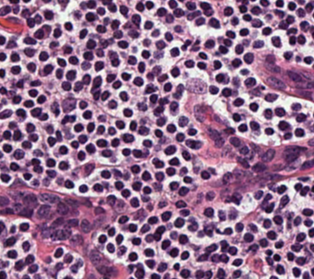nucleus: (188, 79, 205, 92), (267, 76, 284, 88), (62, 98, 75, 112), (262, 149, 274, 161), (252, 163, 266, 172), (238, 157, 249, 168), (208, 129, 220, 139), (186, 140, 201, 148), (92, 76, 101, 89), (84, 163, 93, 175), (51, 102, 59, 115), (178, 116, 188, 126), (152, 158, 163, 167), (267, 64, 279, 72), (244, 53, 253, 63), (66, 70, 75, 80), (154, 105, 163, 115), (122, 134, 133, 142), (164, 146, 175, 154), (265, 94, 277, 101), (34, 29, 43, 38), (86, 39, 95, 48), (39, 51, 48, 60), (232, 58, 241, 67), (230, 137, 239, 146), (14, 149, 23, 158), (272, 36, 280, 46), (24, 48, 34, 56), (44, 64, 52, 74), (245, 78, 255, 86), (74, 81, 82, 91), (145, 85, 155, 93), (233, 98, 243, 106), (1, 110, 11, 118), (13, 130, 21, 140), (132, 149, 142, 157), (24, 37, 35, 44), (53, 28, 61, 37), (79, 29, 87, 38), (156, 41, 165, 49), (170, 47, 178, 56), (83, 51, 92, 59), (95, 61, 103, 70), (27, 62, 35, 71), (171, 67, 179, 76), (133, 77, 142, 85), (209, 86, 218, 94), (222, 88, 231, 96), (101, 91, 109, 100), (119, 91, 127, 100), (31, 108, 40, 116), (123, 108, 132, 116), (275, 108, 284, 116), (250, 121, 258, 130), (26, 123, 34, 132), (139, 126, 148, 134), (215, 137, 223, 146), (59, 161, 68, 169), (101, 170, 110, 178), (142, 171, 150, 180), (132, 182, 141, 190), (277, 185, 286, 193), (179, 187, 188, 195), (253, 40, 263, 47), (83, 74, 90, 84), (235, 45, 243, 53), (11, 53, 19, 61), (266, 55, 274, 63), (69, 56, 77, 64), (128, 56, 136, 64), (57, 58, 65, 66), (216, 74, 224, 82), (62, 82, 70, 90), (37, 95, 45, 103), (108, 100, 116, 108), (249, 103, 257, 111), (17, 109, 25, 117), (167, 124, 175, 132), (47, 137, 55, 145), (3, 144, 11, 152), (86, 144, 94, 152), (240, 146, 248, 154), (131, 165, 139, 173), (166, 167, 174, 175), (113, 169, 121, 177), (201, 171, 209, 179), (155, 172, 163, 180), (1, 174, 9, 182), (65, 180, 73, 188), (115, 181, 123, 189), (129, 30, 138, 37), (205, 40, 214, 47), (11, 66, 20, 73), (106, 74, 115, 81), (158, 74, 167, 81), (92, 90, 99, 99), (24, 100, 33, 107), (264, 109, 271, 118), (156, 118, 165, 125), (97, 139, 106, 146), (22, 141, 31, 148), (182, 151, 189, 160), (169, 158, 178, 165), (33, 165, 42, 172), (223, 173, 230, 182), (138, 62, 144, 72), (114, 31, 122, 38), (165, 32, 172, 40), (223, 39, 231, 46), (219, 46, 227, 53), (142, 50, 149, 58), (109, 51, 116, 59), (111, 58, 118, 66), (185, 60, 193, 67), (214, 60, 221, 68), (82, 62, 90, 69), (153, 66, 160, 74), (164, 83, 171, 91), (29, 89, 37, 96), (79, 101, 87, 108), (170, 102, 177, 110), (83, 111, 91, 118), (39, 113, 47, 120), (233, 113, 240, 121), (116, 121, 124, 128), (87, 123, 94, 131), (74, 124, 82, 131), (238, 124, 246, 131), (46, 125, 53, 133), (188, 128, 196, 135), (176, 133, 183, 141), (29, 134, 37, 141), (143, 140, 151, 147), (59, 146, 67, 153), (34, 149, 42, 156), (31, 158, 39, 165), (46, 159, 54, 166), (10, 163, 18, 170), (47, 170, 55, 177), (170, 182, 178, 189), (153, 183, 161, 190), (94, 184, 102, 191), (79, 185, 87, 192), (118, 41, 127, 47), (56, 69, 62, 78), (121, 73, 130, 79), (31, 80, 40, 86), (159, 98, 168, 104), (130, 121, 136, 130), (225, 127, 234, 133), (102, 150, 111, 156), (78, 151, 84, 160), (64, 46, 71, 53), (96, 49, 103, 56), (199, 52, 206, 59), (113, 81, 120, 88), (150, 95, 157, 102), (13, 96, 20, 103), (62, 116, 69, 123), (97, 126, 104, 133), (108, 127, 115, 134), (155, 129, 162, 136), (3, 131, 10, 138), (79, 135, 86, 142), (111, 139, 118, 146), (71, 141, 78, 148), (143, 186, 150, 193), (226, 31, 234, 37), (7, 41, 15, 47), (50, 41, 58, 47), (197, 62, 205, 68), (177, 84, 183, 92), (265, 128, 273, 134), (122, 149, 130, 155), (56, 131, 61, 140), (152, 30, 159, 36), (101, 40, 107, 47), (147, 72, 153, 79), (173, 92, 180, 98), (251, 144, 258, 150), (24, 173, 31, 179), (184, 176, 191, 182), (240, 69, 248, 74), (138, 104, 146, 109), (143, 39, 149, 45), (9, 122, 15, 128), (0, 53, 5, 60), (1, 87, 6, 94), (43, 178, 48, 185), (0, 36, 4, 44), (0, 69, 4, 77), (184, 40, 190, 45), (17, 81, 22, 87), (181, 167, 186, 173), (32, 180, 38, 185), (70, 116, 75, 121), (192, 46, 198, 50), (98, 116, 104, 120), (181, 45, 186, 49), (125, 174, 128, 179)
